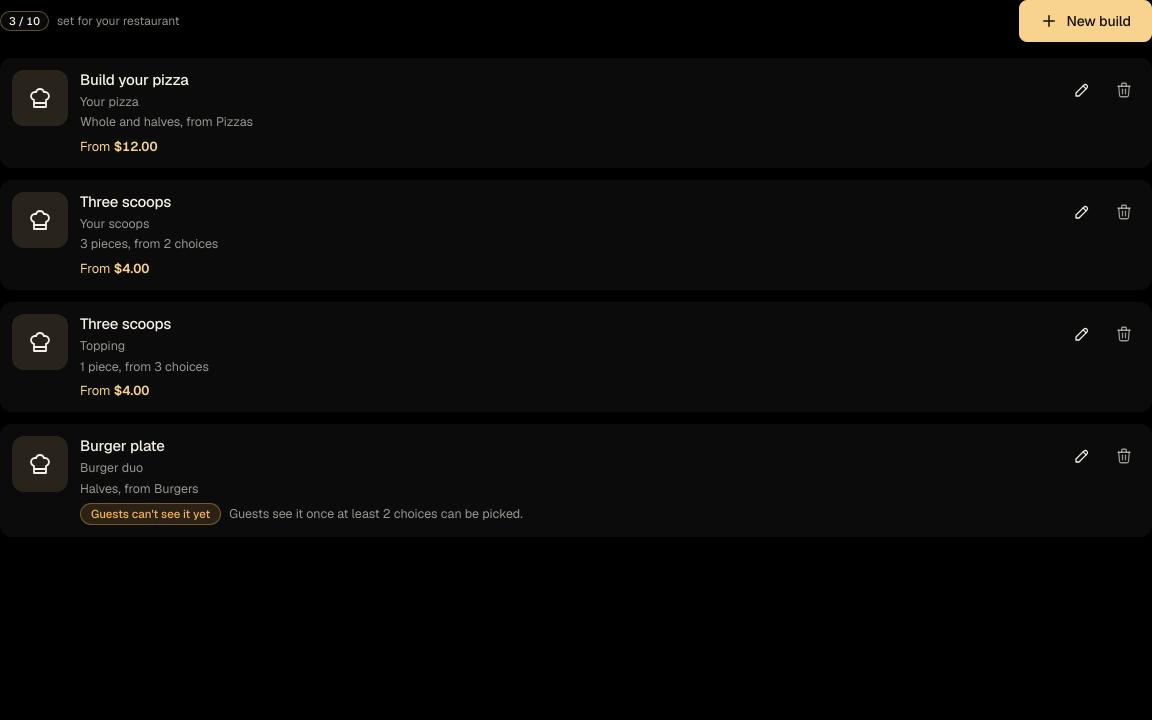
Test: BuildYourOwnPage › deletes a dish with its only build, saying it leaves the menu
Click the button named "Delete Your pizza on Build your pizza": (1124, 90) [1104,70,1144,110]
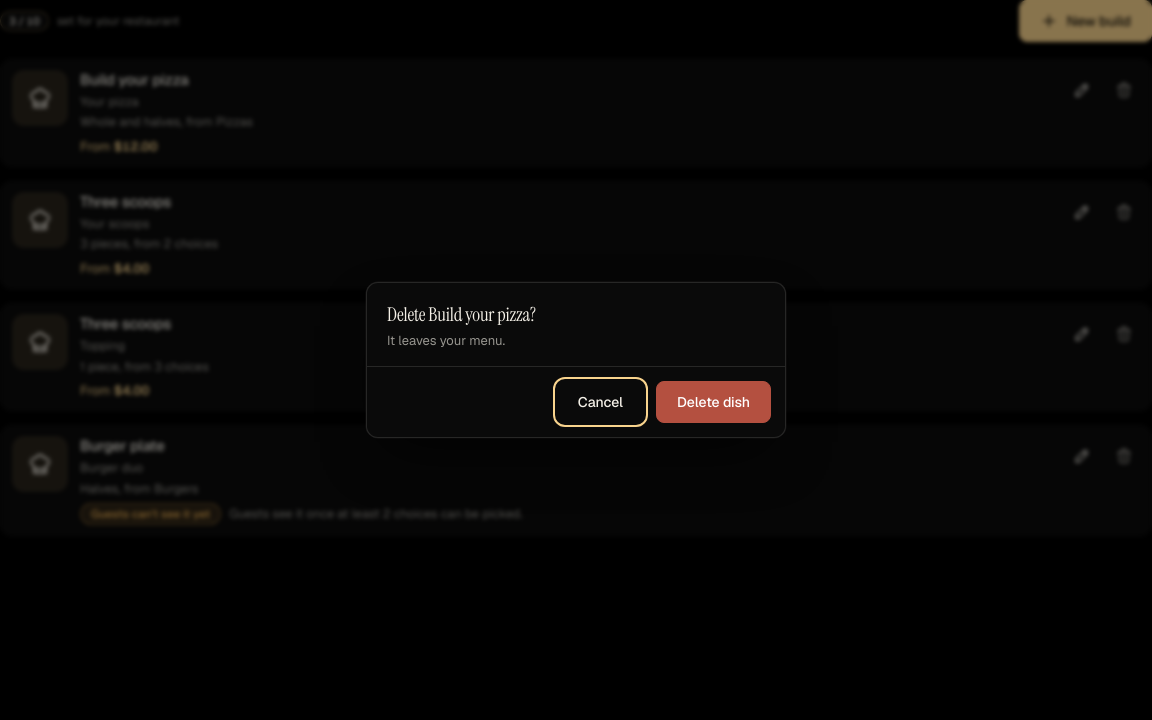
Check: the dialog "Delete Build your pizza?" shows "It leaves your menu.", box [387,332,505,349]
Click the button "Delete dish": (713, 402) [656,381,771,423]
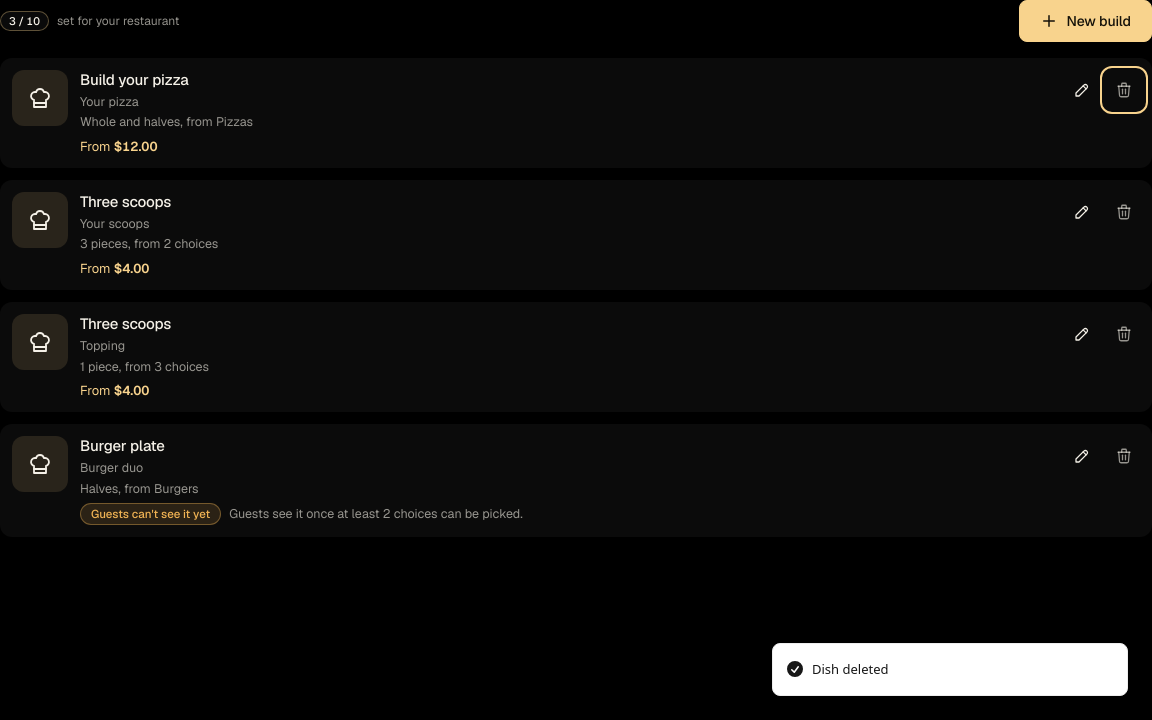
Check: the text "Dish deleted" is shown, box [812,660,888,679]
